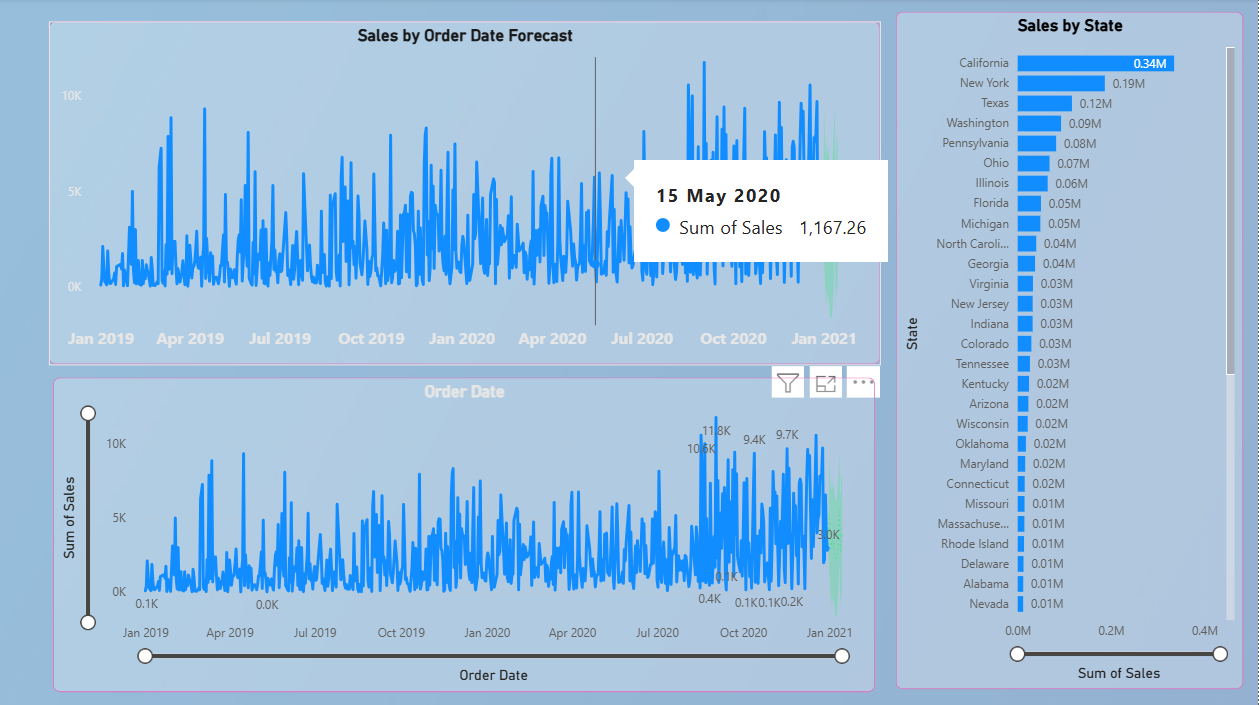

This screenshot's page, from the dashboard's own definition file:
{"tool":"powerbi","page":{"name":"forecasting ","canvas":[1280,720],"ordinal":1},"visuals":[{"type":"lineChart","title":"Sales by Order Date Forecast ","fields":{"Y":["Sum(Sheet1 (2).Sales)"],"Category":["Sheet1 (2).Order Date"]},"box":[51.6,24.2,844.6,348.1],"z":0},{"type":"lineChart","title":" Order Date","fields":{"Y":["Sum(Sheet1 (2).Sales)"],"Category":["Sheet1 (2).Order Date"]},"box":[56.4,385.2,834.9,319.1],"z":1000},{"type":"barChart","title":" Sales by State","fields":{"Y":["Sum(Sheet1 (2).Sales)"],"Category":["Sheet1 (2).State"]},"box":[912.2,14.5,353,688.2],"z":2000}]}

Visuals, with their boxes in screenshot pixels (x1, y1, x2, y2), scaled from the page's 1280x720 canvas onto the 1259x705 screenshot:
"Sales by Order Date Forecast " lineChart: detection(51, 24, 881, 365)
" Order Date" lineChart: detection(55, 377, 877, 690)
" Sales by State" barChart: detection(897, 14, 1244, 688)
